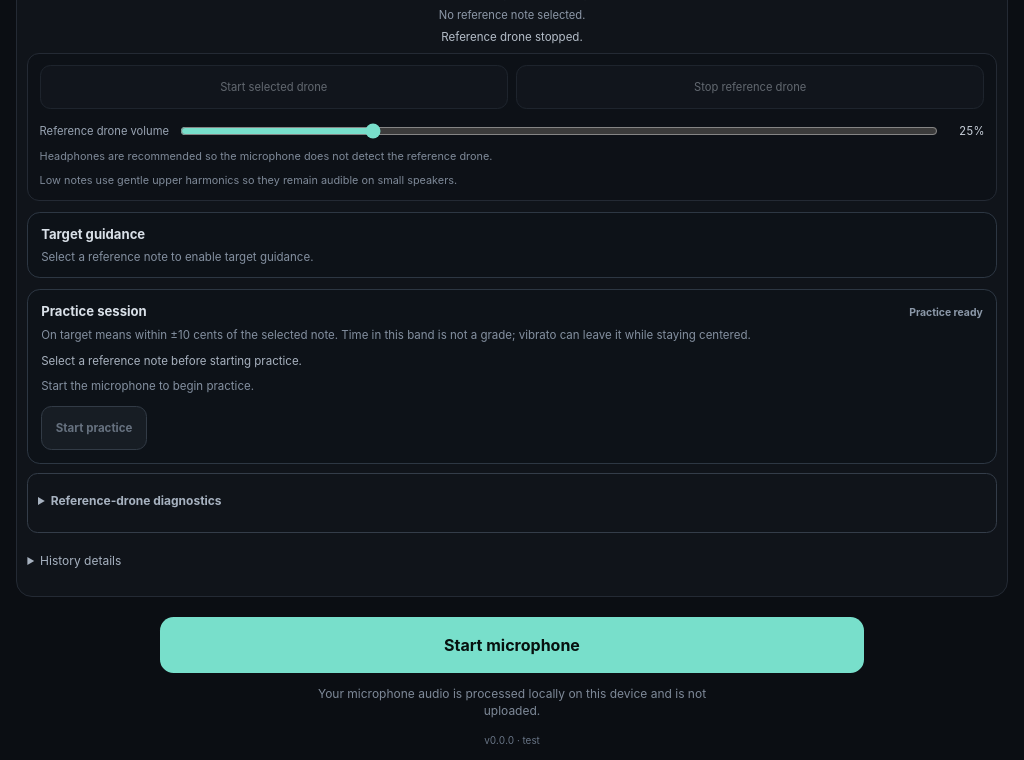
App › disables the control and changes its label while requesting
The width and height of the screenshot is (1024, 760).
(page scrolled)
Click the button "Start microphone" at (512, 645), box left=160, top=617, right=864, bottom=673
(page scrolled)
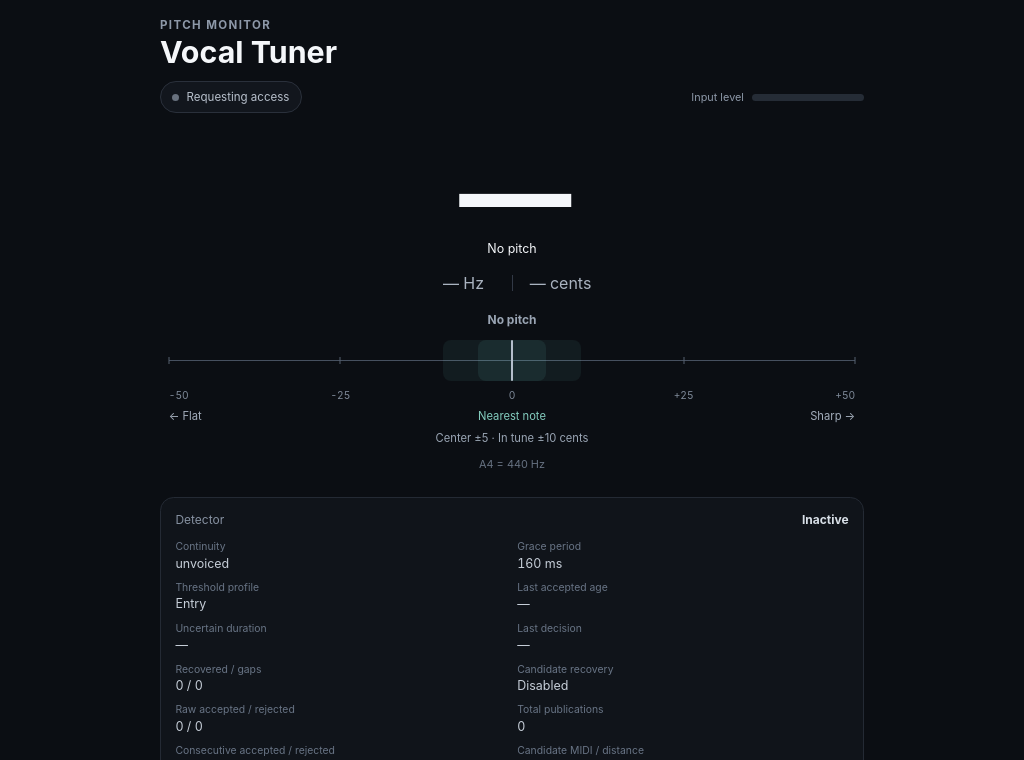
Expected: the message named "Microphone status" reads "Requesting access", left=187, top=90, right=289, bottom=104
